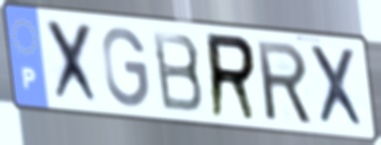B: (149, 28, 207, 116)
G: (100, 25, 152, 110)
R: (253, 38, 316, 128), (204, 30, 261, 124)
X: (305, 42, 370, 132), (43, 16, 104, 110)
